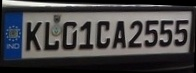character: (25, 21, 43, 52), (43, 20, 60, 51), (61, 21, 79, 49), (126, 20, 144, 48), (95, 19, 111, 49), (79, 21, 95, 50), (111, 20, 127, 49), (143, 19, 159, 47), (158, 19, 174, 47), (173, 19, 189, 47)
